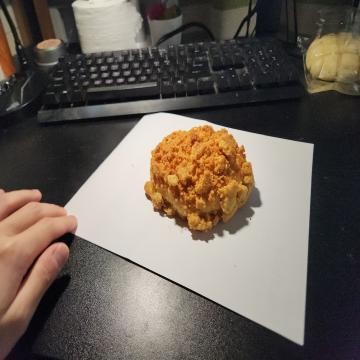soboru_bread: (144, 124, 253, 232)
